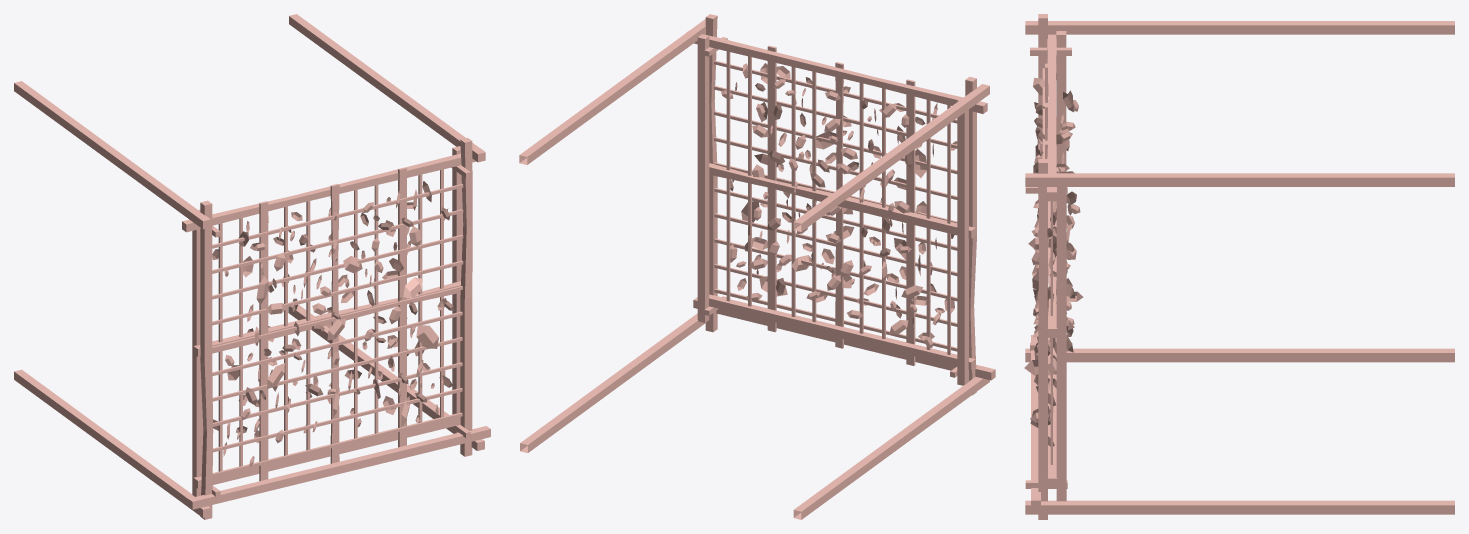
Rendered from Mega_Asset_s_Pack_Cube_027.FBX.
The picture shows the model from 3 angles, left to right: view 1: azimuth 30°, elevation 25°; view 2: azimuth 150°, elevation 25°; view 3: azimuth 270°, elevation 25°; orthographic projection. The views are drawn at different scales.
Parts seen in each view (by area): view 1: Mega_Asset_s_Pack_Cube_027; view 2: Mega_Asset_s_Pack_Cube_027; view 3: Mega_Asset_s_Pack_Cube_027.
Boxes of the visible parts, x1=… form: Mega_Asset_s_Pack_Cube_027: x1=14, y1=14, x2=490, y2=519; Mega_Asset_s_Pack_Cube_027: x1=519, y1=14, x2=995, y2=519; Mega_Asset_s_Pack_Cube_027: x1=1024, y1=14, x2=1454, y2=519.
Size of what is drawn, in the model's own units: 425 by 465 by 426.
